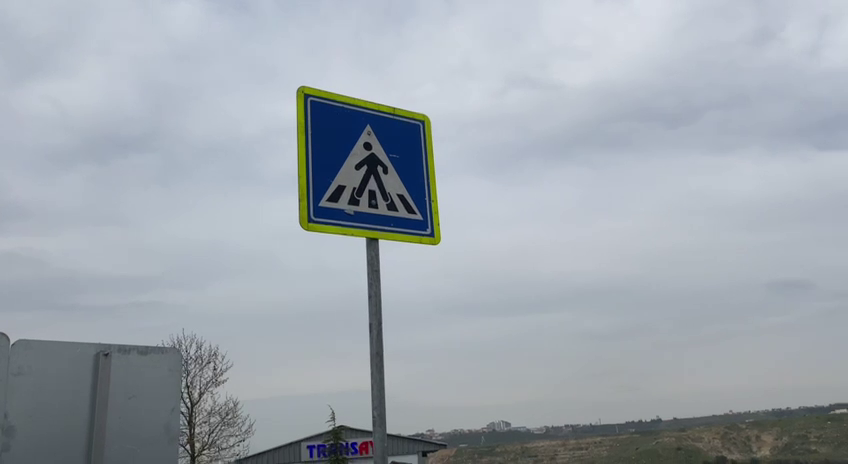pedestrianCrossing: (294, 83, 443, 248)
